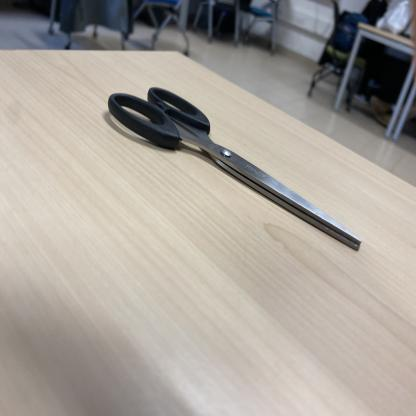scissors: (108, 86, 364, 252)
